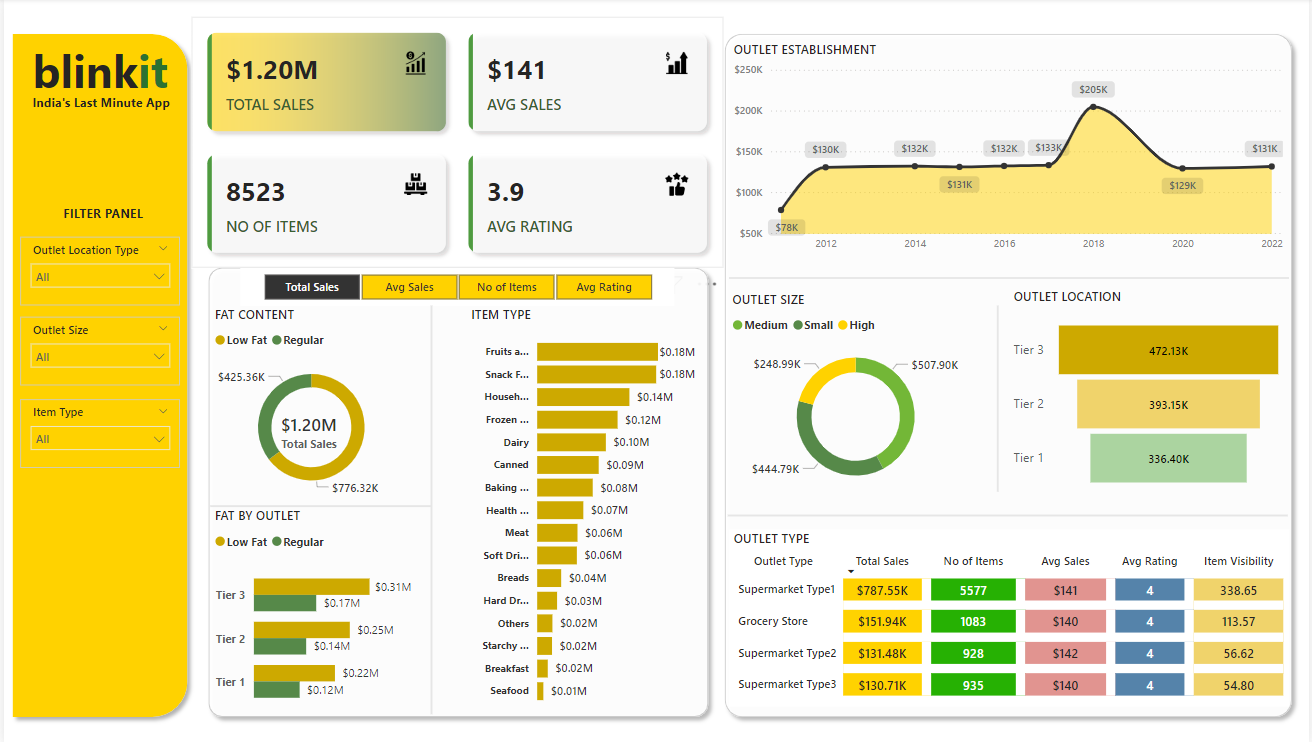

The page's visual inventory and layout, read from the dashboard file:
{"tool":"powerbi","page":{"name":"Page 1","canvas":[1400,800],"ordinal":0},"visuals":[{"type":"shape","box":[0,30,205.6,750.4],"z":0},{"type":"textbox","box":[268.7,706.9,237.1,73.5],"z":1000},{"type":"textbox","box":[25.5,97.6,195.1,27],"z":2000},{"type":"textbox","box":[25.5,40.5,175.6,84],"z":3000},{"type":"cardVisual","fields":{"Data":["BlinkIT Grocery Data.Total Sales","BlinkIT Grocery Data.Avg Sales","BlinkIT Grocery Data.No of Iteams","BlinkIT Grocery Data.Avg Rating"]},"box":[201.1,19.5,570.3,270.2],"z":4000},{"type":"shape","box":[210.1,280.7,553.8,499.8],"z":5000},{"type":"slicer","fields":{"Values":["Metrics 2.Metrics"]},"box":[253.6,289.7,465.3,40.5],"z":6000},{"type":"cardVisual","fields":{"Data":["BlinkIT Grocery Data.Total Sales"]},"box":[268.7,426.2,118.6,78],"z":7000},{"type":"clusteredBarChart","title":"FAT BY OUTLET","fields":{"Y":["BlinkIT Grocery Data.Total Sales"],"Category":["BlinkIT Grocery Data.Outlet Location Type"],"Series":["BlinkIT Grocery Data.Item Fat Content"]},"box":[221.2,545.6,221.2,230.6],"z":8000},{"type":"shape","box":[221.2,529.5,237.3,30.8],"z":9000},{"type":"shape","box":[430.3,329.8,56.3,438.3],"z":10000},{"type":"barChart","title":"ITEM TYPE","fields":{"Y":["BlinkIT Grocery Data.Total Sales"],"Category":["BlinkIT Grocery Data.Item Type"]},"box":[496,329.8,250.7,438.3],"z":11000},{"type":"shape","box":[764.1,29.5,626,750.7],"z":12000},{"type":"lineChart","title":" OUTLET ESTABLISHMENT","fields":{"Category":["BlinkIT Grocery Data.Outlet Establishment Year"],"Y":["BlinkIT Grocery Data.Total Sales"]},"box":[777.5,45.6,599.2,234.6],"z":13000},{"type":"shape","box":[777.5,290.9,600.5,18.8],"z":14000},{"type":"donutChart","title":"OUTLET SIZE","fields":{"Y":["BlinkIT Grocery Data.Total Sales"],"Category":["BlinkIT Grocery Data.Outlet Size"]},"box":[776.1,313.7,274.8,225.2],"z":15000},{"type":"shape","box":[1037.5,329.8,56.3,199.7],"z":16000},{"type":"funnel","title":"OUTLET LOCATION","fields":{"Category":["BlinkIT Grocery Data.Outlet Location Type"],"Y":["Sum(BlinkIT Grocery Data.Sales)"]},"box":[1077.8,311,298.9,230.6],"z":17000},{"type":"shape","box":[776.1,545.6,600.5,18.8],"z":18000},{"type":"pivotTable","title":"OUTLET TYPE","fields":{"Rows":["BlinkIT Grocery Data.Outlet Type"],"Values":["BlinkIT Grocery Data.Total Sales","BlinkIT Grocery Data.No of Items","BlinkIT Grocery Data.Avg Sales","BlinkIT Grocery Data.Avg Rating","Sum(BlinkIT Grocery Data.Item Visibility)"]},"box":[777.5,569.7,600.5,190.3],"z":19000},{"type":"slicer","fields":{"Values":["BlinkIT Grocery Data.Outlet Location Type"]},"box":[17.4,256,171.6,73.7],"z":20000},{"type":"slicer","fields":{"Values":["BlinkIT Grocery Data.Outlet Size"]},"box":[17.4,341.8,171.6,73.7],"z":21000},{"type":"slicer","fields":{"Values":["BlinkIT Grocery Data.Item Type"]},"box":[17.4,430.3,171.6,73.7],"z":22000},{"type":"donutChart","title":"FAT CONTENT","fields":{"Y":["BlinkIT Grocery Data.Total Sales"],"Category":["BlinkIT Grocery Data.Item Fat Content"]},"box":[221.2,329.8,217.2,215.8],"z":22001},{"type":"textbox","box":[25.5,217.2,166.2,34.9],"z":22002}]}

Visuals, with their boxes in screenshot pixels (x1, y1, x2, y2), scaled from the page's 1400x800 canvas onto the 1312x742 screenshot:
shape: (0,28,193,724)
textbox: (252,656,474,724)
textbox: (24,91,207,116)
textbox: (24,38,188,115)
cardVisual - BlinkIT Grocery Data.Total Sales x BlinkIT Grocery Data.Avg Sales: (188,18,723,269)
shape: (197,260,716,724)
slicer - Metrics 2.Metrics: (238,269,674,306)
cardVisual - BlinkIT Grocery Data.Total Sales: (252,395,363,468)
"FAT BY OUTLET" clusteredBarChart: (207,506,415,720)
shape: (207,491,430,520)
shape: (403,306,456,712)
"ITEM TYPE" barChart: (465,306,700,712)
shape: (716,27,1303,724)
" OUTLET ESTABLISHMENT" lineChart: (729,42,1290,260)
shape: (729,270,1291,287)
"OUTLET SIZE" donutChart: (727,291,985,500)
shape: (972,306,1025,491)
"OUTLET LOCATION" funnel: (1010,288,1290,502)
shape: (727,506,1290,523)
"OUTLET TYPE" pivotTable: (729,528,1291,705)
slicer - BlinkIT Grocery Data.Outlet Location Type: (16,237,177,306)
slicer - BlinkIT Grocery Data.Outlet Size: (16,317,177,385)
slicer - BlinkIT Grocery Data.Item Type: (16,399,177,467)
"FAT CONTENT" donutChart: (207,306,411,506)
textbox: (24,201,180,234)
